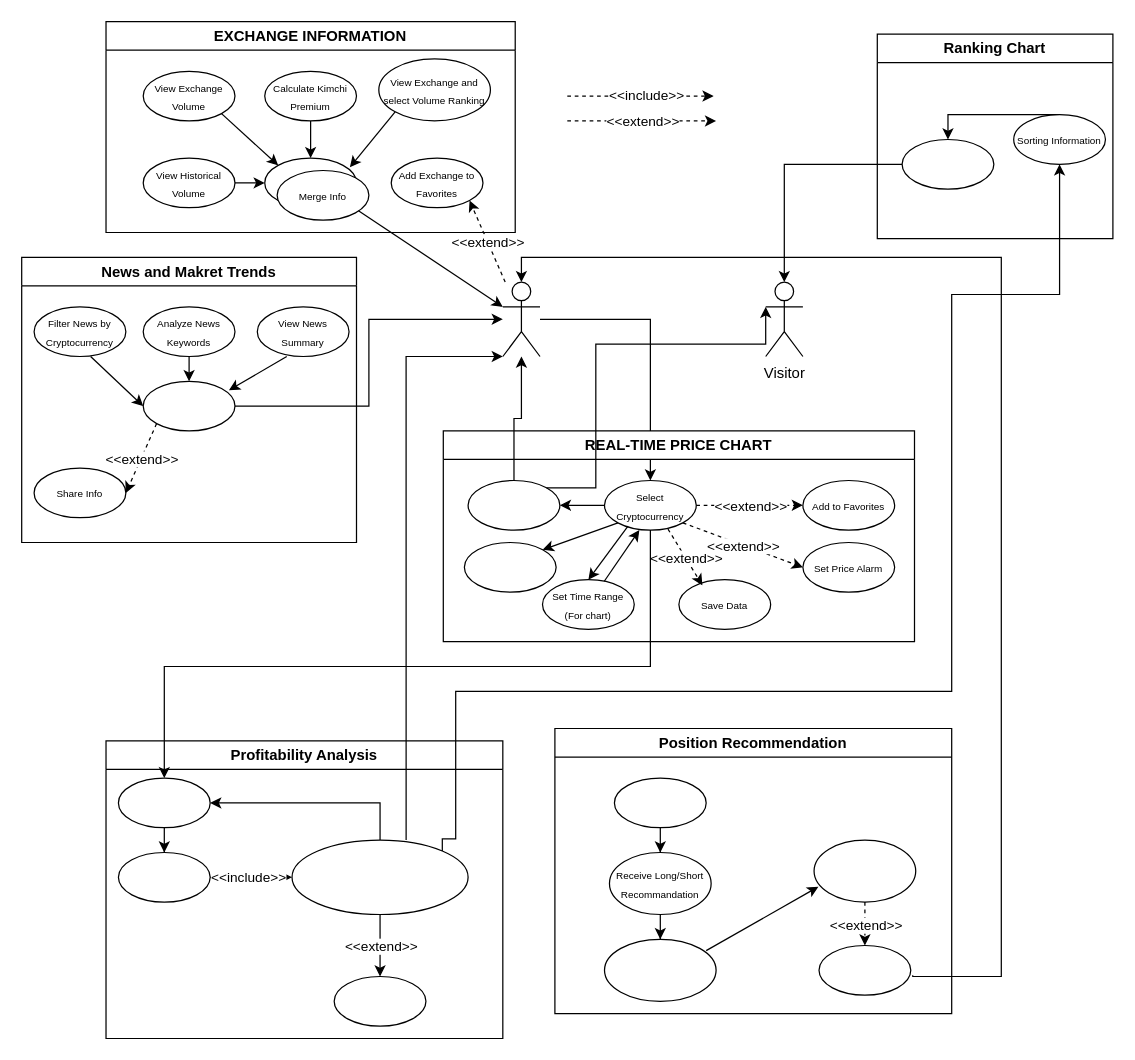
Image size: 1135x1060. Some labels were removed from this diagram. The centre of each missing label's shape, as x and y in pixels:
"Add Sub-Indicator" goes at (509,566).
"Analyze Market Flow" goes at (659,802).
"Calculate Average Profit" goes at (163,876).
"Collect News (Real time)" goes at (188,405).
"Customer" goes at (521,318).
"Receive Recommandation's Indicator" goes at (864,870).
"Save and Show Profit Data" goes at (379,1000).
"Set Duration(data) Range" goes at (163,802).
"Set Recommendation Alarm" goes at (864,969).
"View Expected Profit and Loss Ratio / Display Profitability Graph" goes at (379,876).
"View Price Chart" goes at (513,504).
"View Ranking" goes at (947,163).
"View Recommenation Confidence( Indicators)" goes at (659,969).
